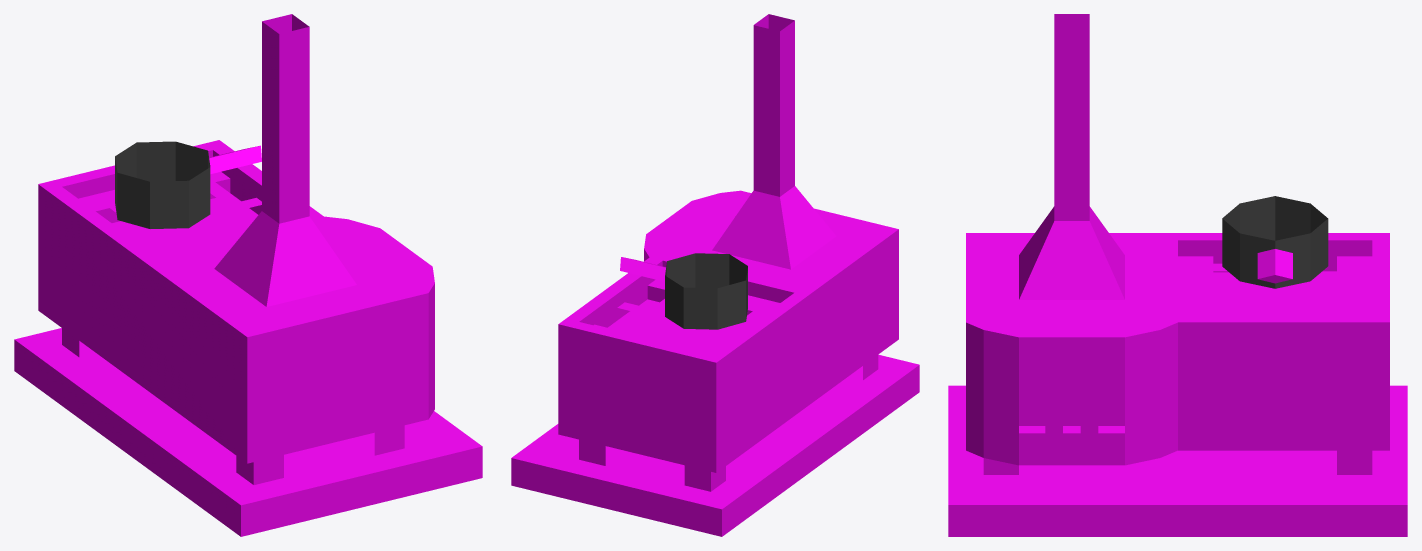
File: range.obj
3 views of the same model, side by side, from view 1: azimuth 30°, elevation 25°; view 2: azimuth 150°, elevation 25°; view 3: azimuth 270°, elevation 25° (orthographic). The views are drawn at different scales.
Parts seen in each view (by area): view 1: range_back; view 2: range_back; view 3: range_back.
Boxes of the visible parts, x1,y1,x2,y2 form: range_back: (14,14,482,536); range_back: (511,14,919,536); range_back: (948,14,1407,536).
Bounding box in the file's own units: 1.28 × 2.24 × 2.08.
